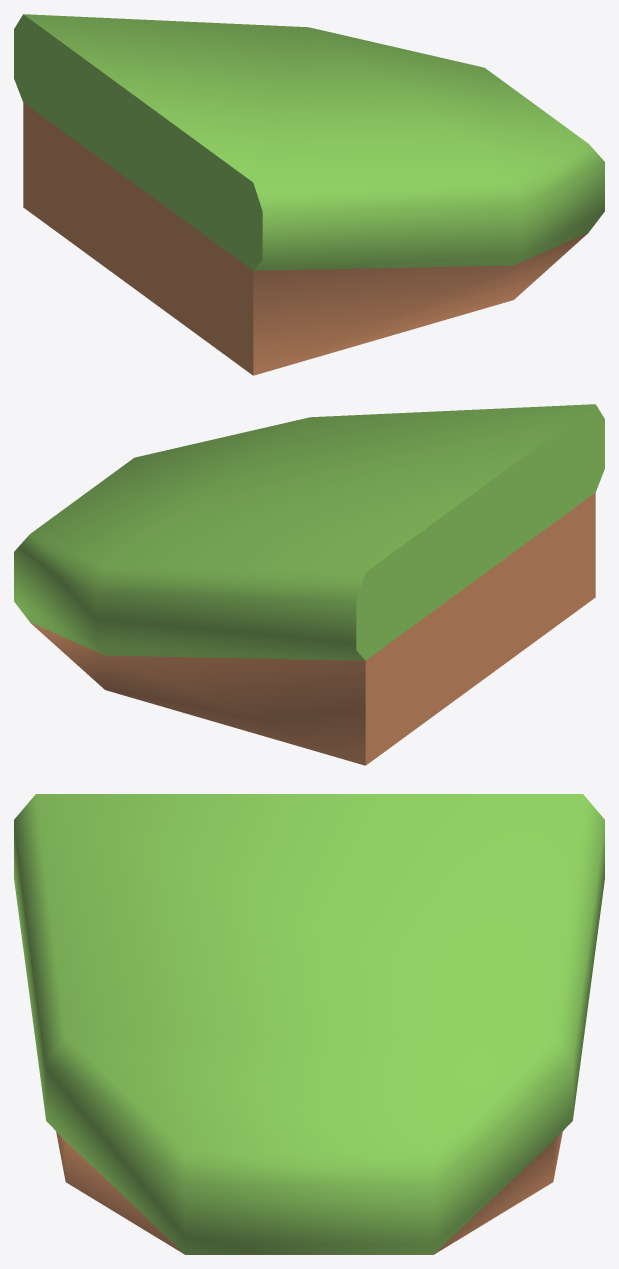
Rendered from 01_slope_down_normal_left.glb.
3 views of the same model, one above another, from view 1: azimuth 30°, elevation 25°; view 2: azimuth 150°, elevation 25°; view 3: azimuth 270°, elevation 25° (orthographic). The views are drawn at different scales.
Visible parts, largest first — view 1: 01_slope_down_normal_left; view 2: 01_slope_down_normal_left; view 3: 01_slope_down_normal_left.
Boxes of the visible parts, x1=… form: 01_slope_down_normal_left: x1=14, y1=14, x2=604, y2=375; 01_slope_down_normal_left: x1=14, y1=404, x2=604, y2=765; 01_slope_down_normal_left: x1=14, y1=794, x2=604, y2=1254.
Size of the model in its own units: 0.52 by 0.2316 by 0.54.
